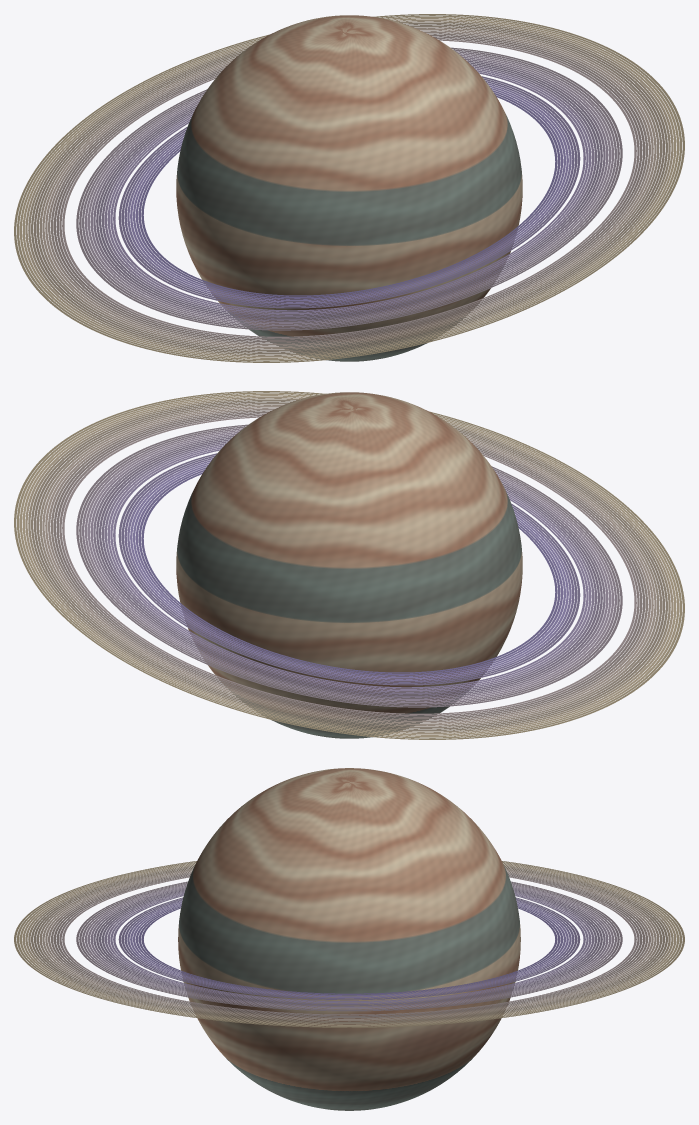
File: RingedGasGiant_Industrial.glb
3 renders of one model, top to bottom at view 1: azimuth 30°, elevation 25°; view 2: azimuth 150°, elevation 25°; view 3: azimuth 270°, elevation 25°, orthographic.
Visible parts, largest first — view 1: Cloud layers, Planetary rings; view 2: Cloud layers, Planetary rings; view 3: Cloud layers, Planetary rings.
Boxes of the visible parts, x1,y1,x2,y2 form: Cloud layers: [176, 15, 522, 361]; Planetary rings: [14, 14, 684, 362]; Cloud layers: [176, 392, 522, 738]; Planetary rings: [14, 391, 684, 739]; Cloud layers: [178, 768, 520, 1110]; Planetary rings: [14, 861, 684, 1027].
Bounding box in the file's own units: 3.86 × 2 × 3.91.
2 materials, 1 textured.
